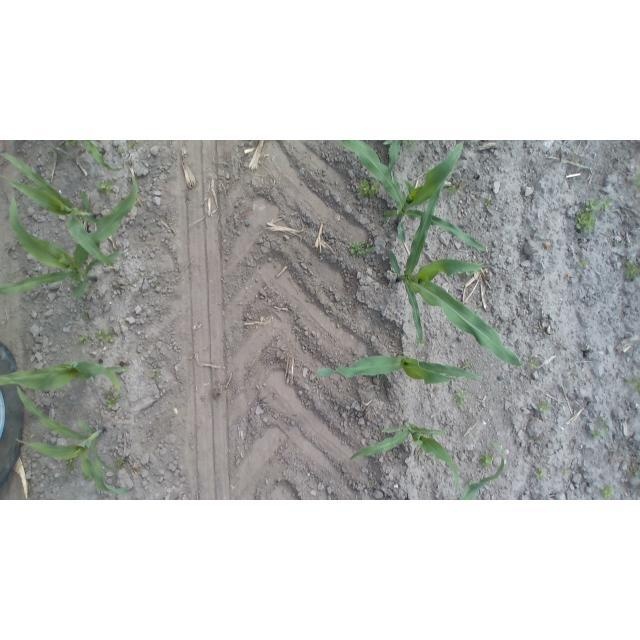Maize: (387, 179, 526, 367), (0, 173, 140, 302), (336, 140, 488, 258), (0, 150, 120, 269), (11, 381, 133, 497), (348, 420, 467, 489), (1, 356, 132, 402), (310, 352, 485, 386), (456, 435, 506, 499), (64, 141, 125, 175), (382, 141, 421, 172)
Weeds: (574, 210, 596, 237), (347, 240, 377, 259), (586, 418, 610, 441), (359, 178, 381, 199), (452, 386, 470, 411), (95, 329, 118, 348), (622, 258, 639, 283), (476, 452, 497, 471), (97, 178, 116, 196), (104, 389, 120, 410), (532, 467, 549, 484), (599, 485, 618, 500), (584, 198, 605, 211), (536, 399, 552, 415), (625, 375, 640, 391), (63, 460, 77, 476), (629, 463, 640, 481), (599, 197, 613, 211), (77, 308, 91, 322), (448, 181, 461, 196), (150, 370, 163, 385), (77, 332, 93, 344), (628, 171, 638, 190), (461, 360, 475, 372), (577, 260, 591, 272), (115, 145, 125, 160), (528, 357, 539, 370), (485, 194, 495, 208), (125, 140, 140, 149), (461, 270, 475, 278), (561, 467, 570, 478), (542, 454, 550, 462)
